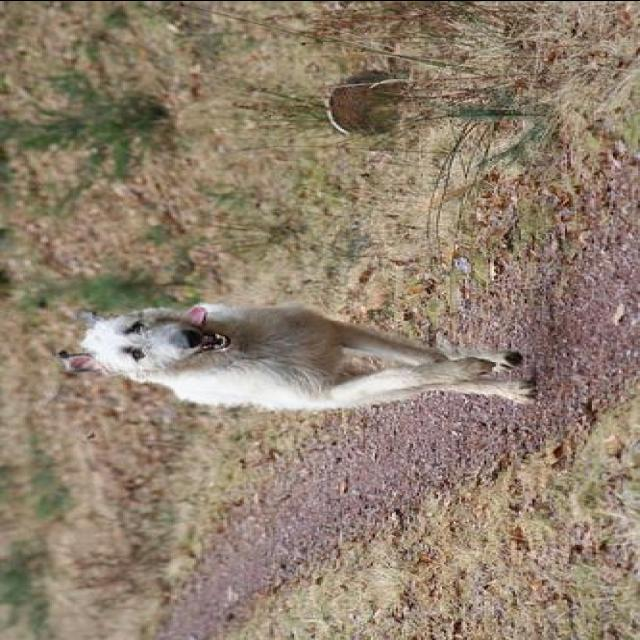irish_wolfhound: (75, 300, 538, 424)
